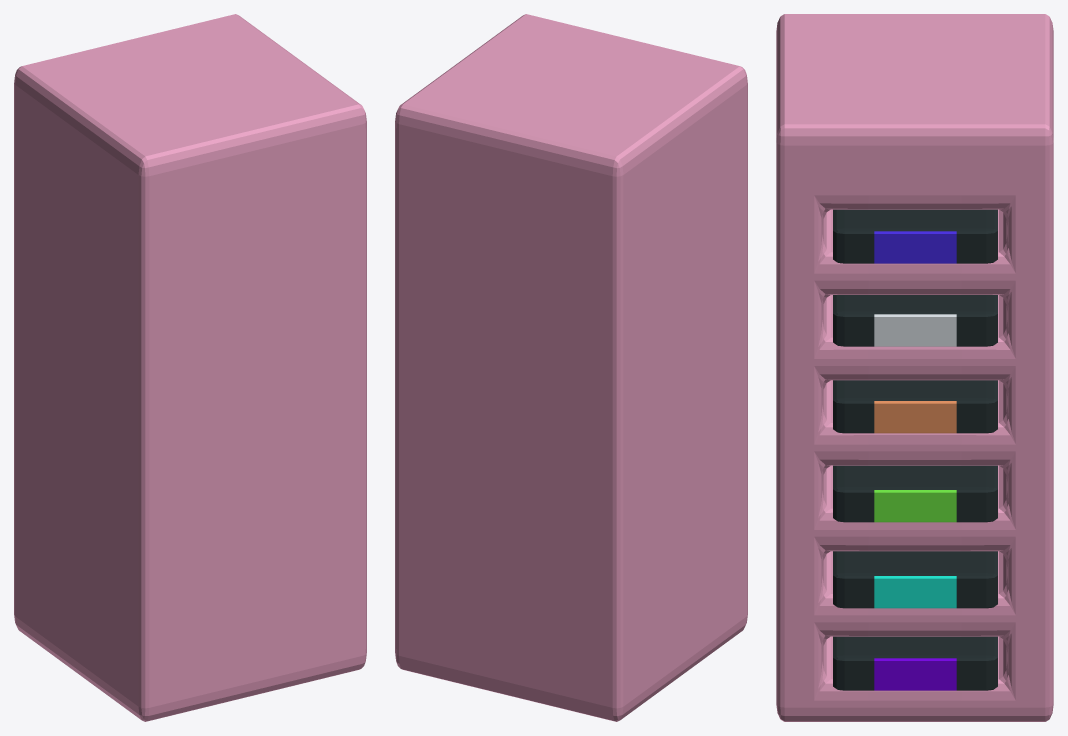
File: shelfState0.glb
The picture shows the model from 3 angles, left to right: view 1: azimuth 30°, elevation 25°; view 2: azimuth 150°, elevation 25°; view 3: azimuth 270°, elevation 25°; orthographic projection. The views are drawn at different scales.
Visible parts, largest first — view 1: Cube; view 2: Cube; view 3: Cube, Cube.005, Cube.004, Cube.003, Cube.006, Cube.001, Cube.002.
Boxes of the visible parts, box(x1,y1,x2,y2) form: Cube: box(14, 14, 366, 721); Cube: box(395, 14, 747, 721); Cube: box(776, 14, 1053, 721); Cube.005: box(833, 551, 997, 608); Cube.004: box(833, 465, 997, 522); Cube.003: box(833, 209, 997, 263); Cube.006: box(833, 636, 997, 690); Cube.001: box(833, 380, 997, 433); Cube.002: box(833, 295, 997, 346).
Bounding box in the file's own units: 2.17 × 4.76 × 2.
